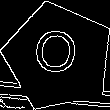O_S: (34, 29, 83, 84)
